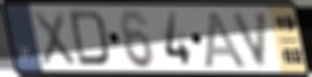4: (163, 11, 193, 68)
6: (118, 7, 156, 70)
A: (201, 9, 249, 70)
D: (67, 9, 112, 69)
V: (230, 10, 271, 69)
X: (31, 9, 78, 67)
